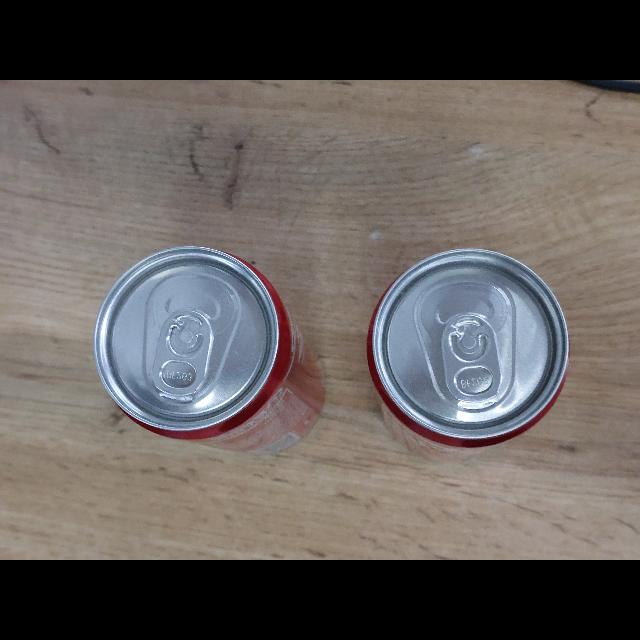coca_cola: (94, 247, 325, 451), (367, 249, 569, 459)
